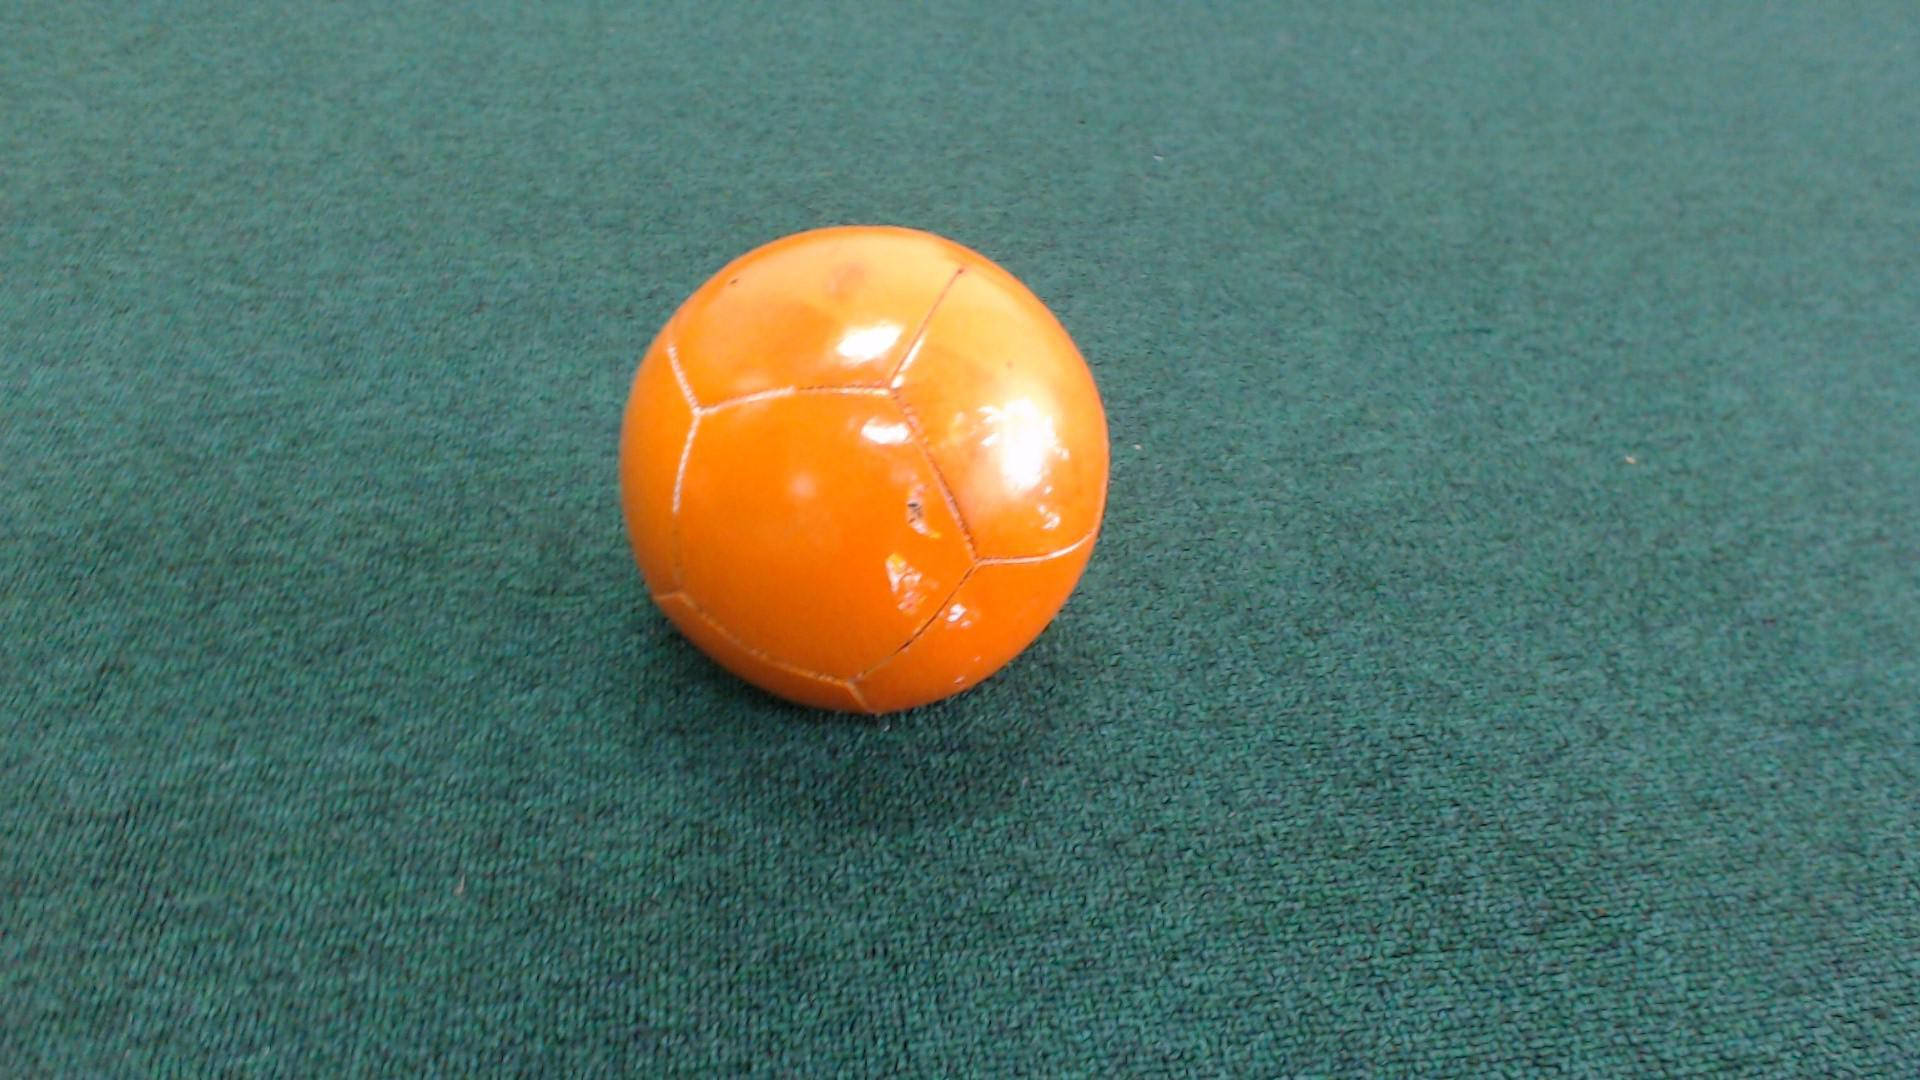bola: (582, 186, 1151, 754)
